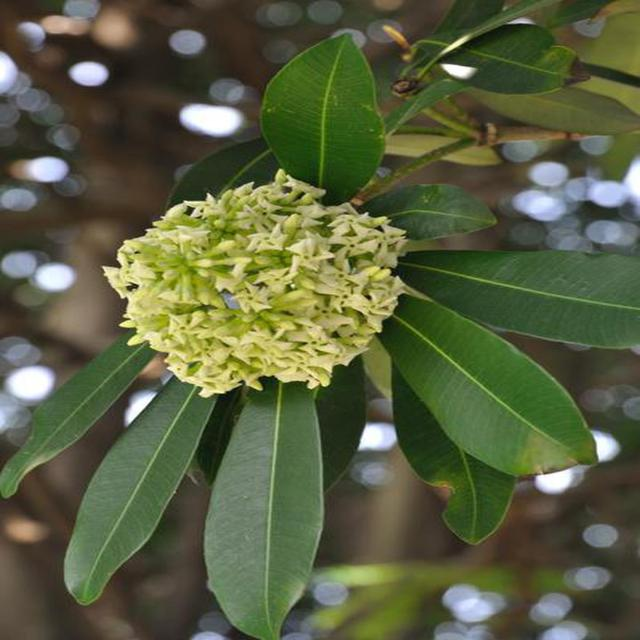Indian Pulai: (47, 109, 536, 622)
